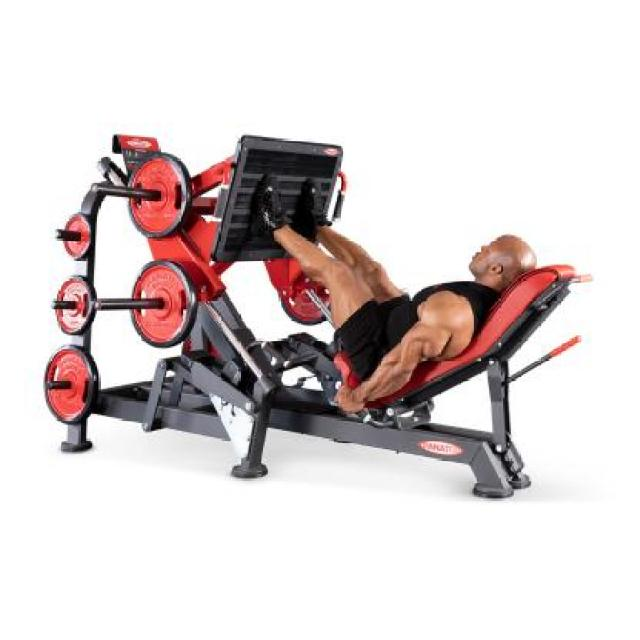leg press: (30, 97, 588, 517)
